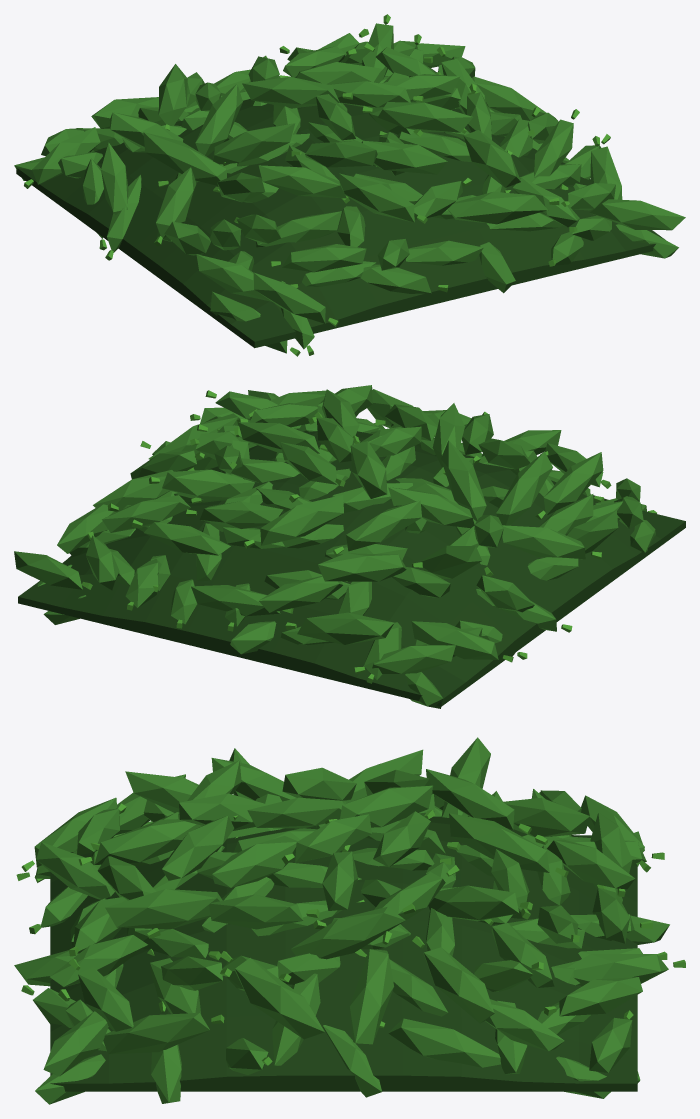
File: Pile_Cucumber.fbx
3 renders of one model, top to bottom at view 1: azimuth 30°, elevation 25°; view 2: azimuth 150°, elevation 25°; view 3: azimuth 270°, elevation 25°, orthographic. The views are drawn at different scales.
Visible parts, largest first — view 1: Pile_Cucumber; view 2: Pile_Cucumber; view 3: Pile_Cucumber.
Boxes of the visible parts, x1,y1,x2,y2 form: Pile_Cucumber: [14, 14, 685, 356]; Pile_Cucumber: [14, 385, 685, 708]; Pile_Cucumber: [14, 737, 685, 1104].
Size of the model in its own units: 1.15 by 0.3363 by 1.14.
